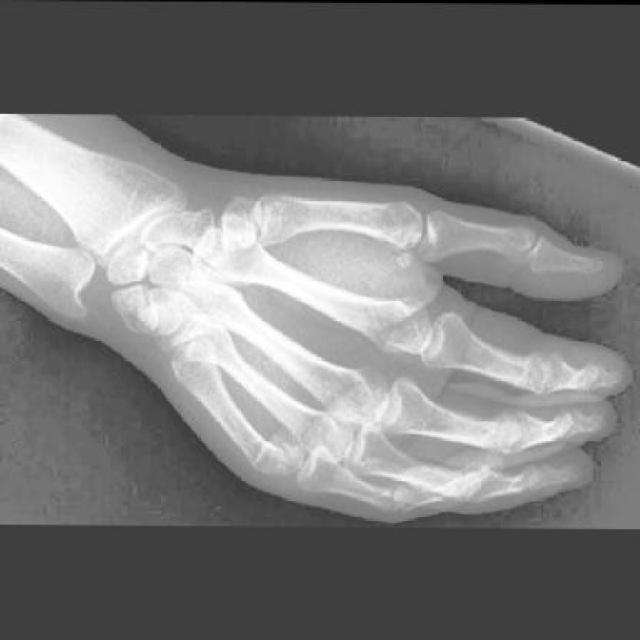Fracture: (249, 440, 294, 485)
